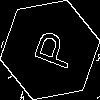P: (25, 25, 77, 72)
